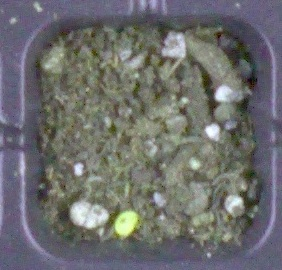chilli seed: (114, 210, 138, 236)
